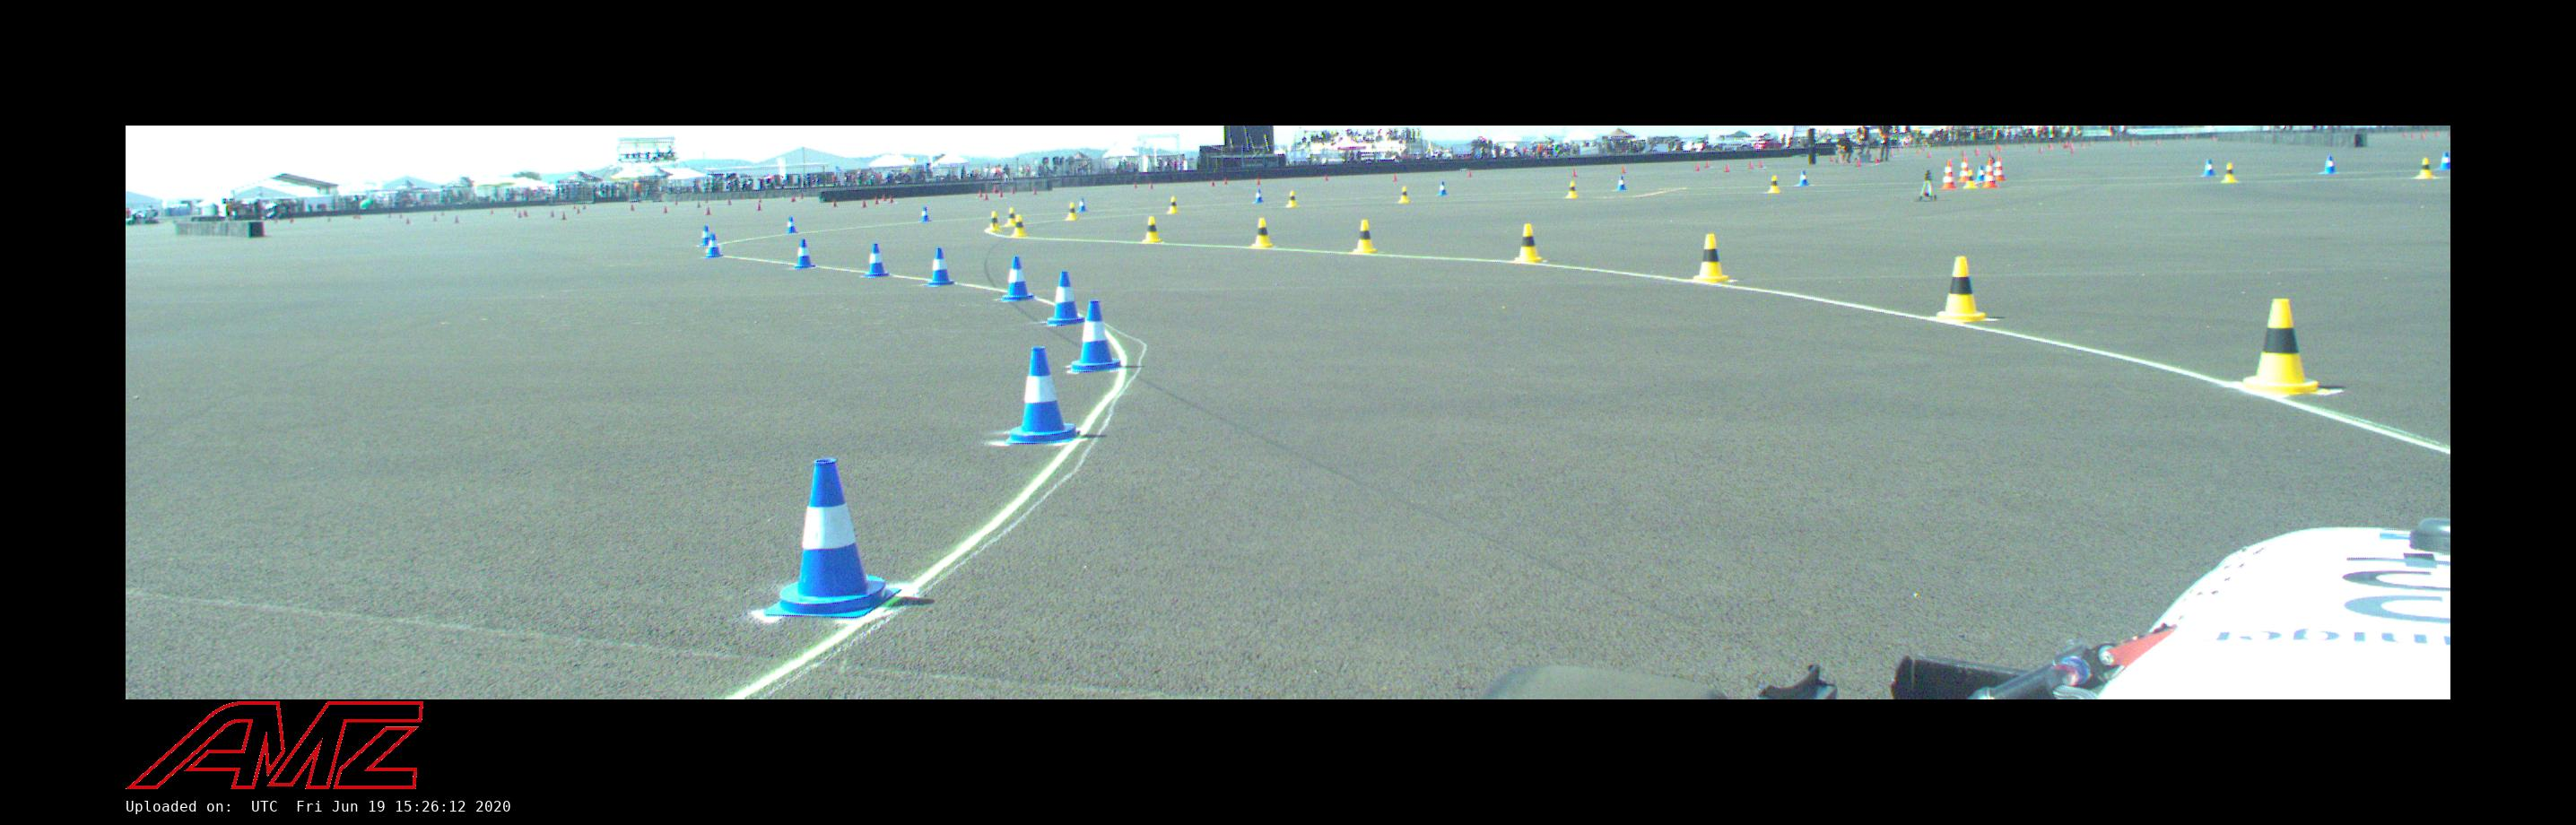blue_cone: (764, 459, 900, 618), (1004, 347, 1079, 442), (1069, 299, 1120, 370), (1046, 271, 1086, 324), (1002, 256, 1033, 299), (928, 247, 955, 286), (864, 243, 889, 276), (793, 238, 815, 268), (705, 233, 723, 258), (2320, 154, 2338, 174), (2436, 151, 2451, 171), (698, 225, 710, 247), (2201, 159, 2216, 176), (920, 205, 932, 222), (787, 217, 797, 233), (1078, 196, 1088, 212), (1438, 181, 1447, 196), (1617, 176, 1626, 191), (1799, 171, 1809, 186), (1976, 164, 1985, 181), (1254, 189, 1263, 202)
large_orange_cone: (1940, 161, 1955, 189), (1983, 159, 1996, 189), (1958, 156, 1968, 182), (1994, 156, 2004, 181)
yellow_cone: (2241, 301, 2320, 394), (1937, 256, 1988, 320), (1692, 233, 1730, 283), (1515, 224, 1544, 263), (1352, 219, 1378, 253), (1252, 219, 1273, 248), (1142, 217, 1163, 243), (1010, 214, 1028, 237), (2417, 156, 2433, 177), (1963, 169, 1978, 189), (2221, 163, 2236, 182), (987, 210, 1001, 230), (1564, 181, 1577, 199), (1768, 174, 1781, 192), (1286, 191, 1299, 207), (1004, 207, 1015, 225), (1066, 202, 1078, 220), (1166, 196, 1178, 212), (1398, 186, 1410, 202)
